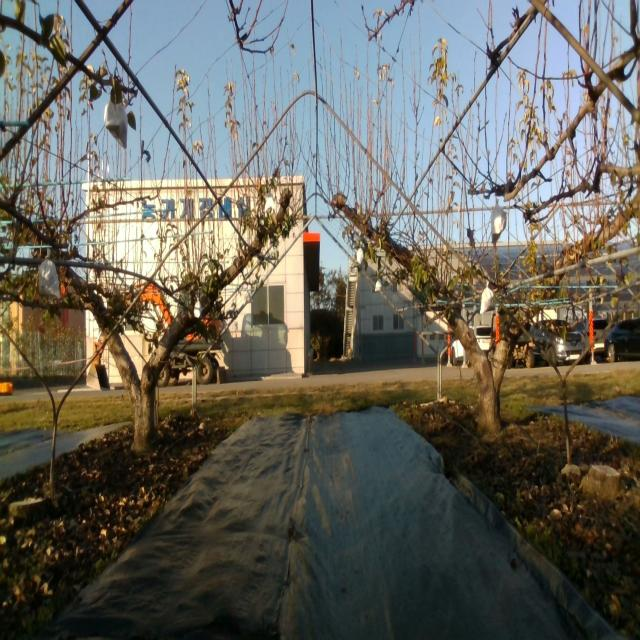pearbags: (105, 97, 130, 151), (39, 246, 59, 301), (491, 199, 507, 246), (480, 280, 495, 314), (264, 192, 275, 213)
